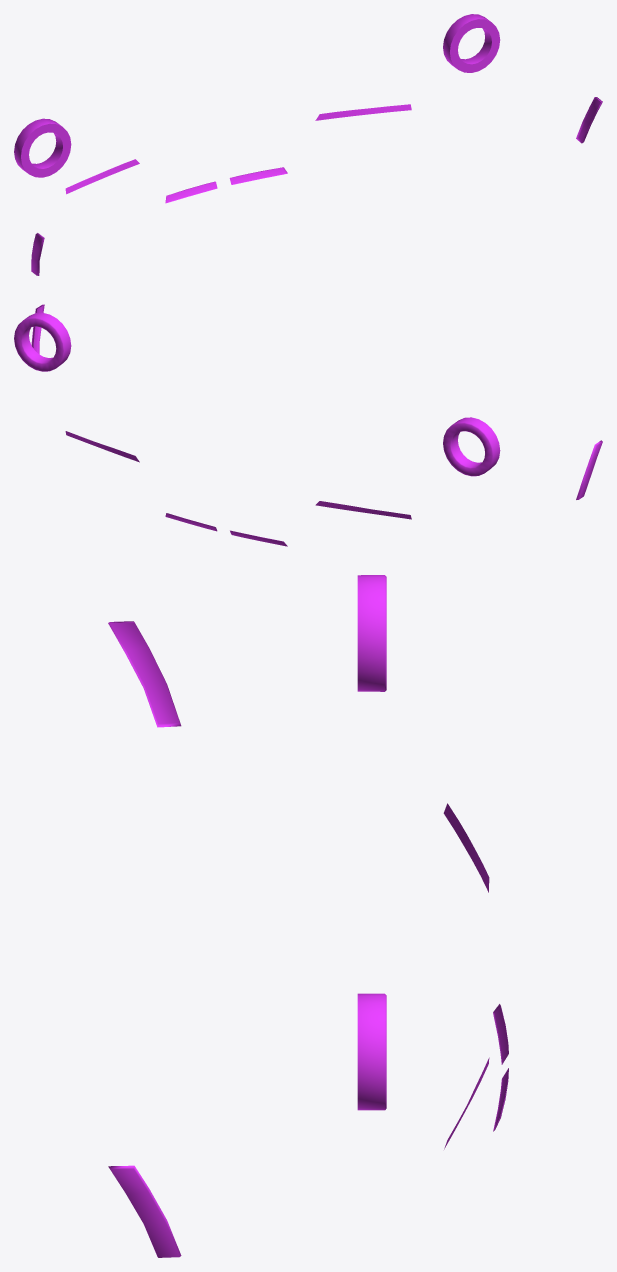
The model's file is FordGT_BB01_Detail.fbx.
3 renders of one model, top to bottom at view 1: azimuth 30°, elevation 25°; view 2: azimuth 150°, elevation 25°; view 3: azimuth 270°, elevation 25°, orthographic. The views are drawn at different scales.
Visible parts, largest first — view 1: FordGT_BB01_Detail; view 2: FordGT_BB01_Detail; view 3: FordGT_BB01_Detail.
Boxes of the visible parts, <box> form: FordGT_BB01_Detail: <box>14,14,602,275</box>; FordGT_BB01_Detail: <box>14,304,602,546</box>; FordGT_BB01_Detail: <box>108,575,508,1257</box>.
Bounding box in the file's own units: 193 × 46.26 × 59.56.
